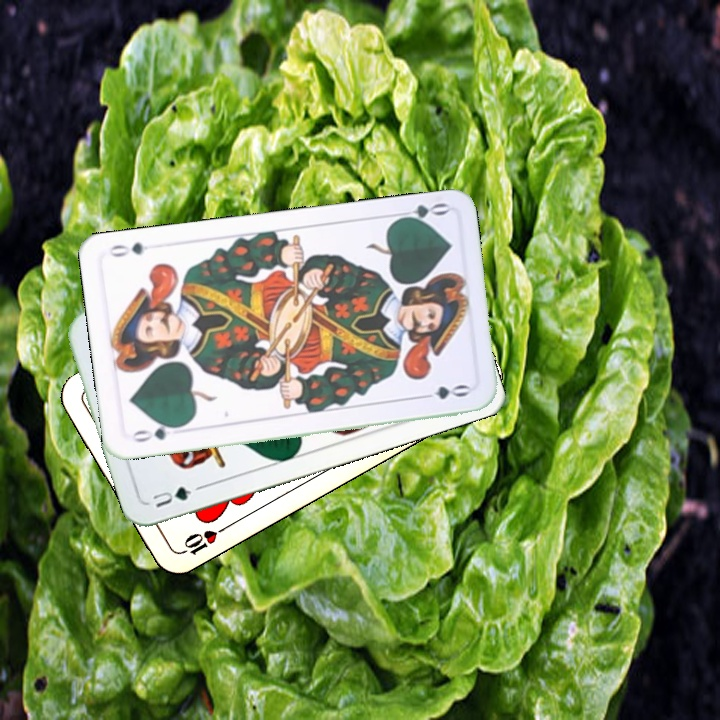GO: (391, 198, 450, 226), (128, 419, 185, 445)
GU: (148, 482, 204, 511)
H10: (174, 522, 229, 558)
